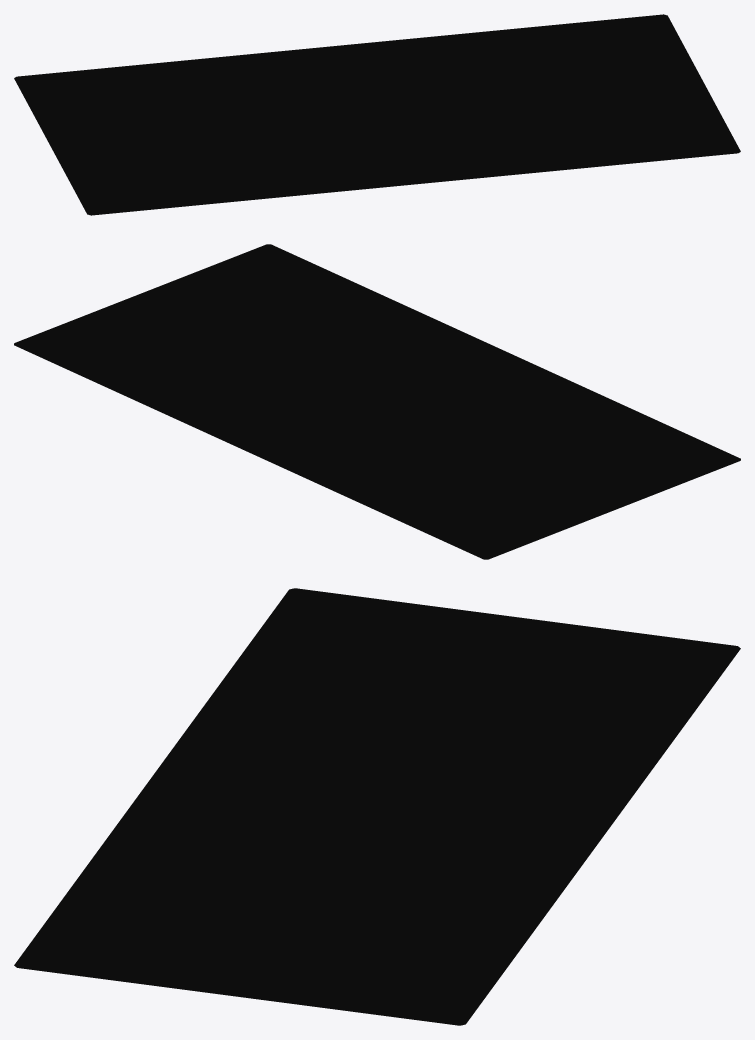
The picture shows the model from 3 angles, top to bottom: view 1: azimuth 30°, elevation 25°; view 2: azimuth 150°, elevation 25°; view 3: azimuth 270°, elevation 25°; orthographic projection. The views are drawn at different scales.
Parts seen in each view (by area): view 1: Joint_0_Object_0; view 2: Joint_0_Object_0; view 3: Joint_0_Object_0.
Part boxes in pixels (<box>): Joint_0_Object_0: <box>14,14,740,215</box>; Joint_0_Object_0: <box>14,244,740,559</box>; Joint_0_Object_0: <box>14,588,740,1025</box>.
Size of the model in its own units: 4492 by 0.2003 by 3153.
